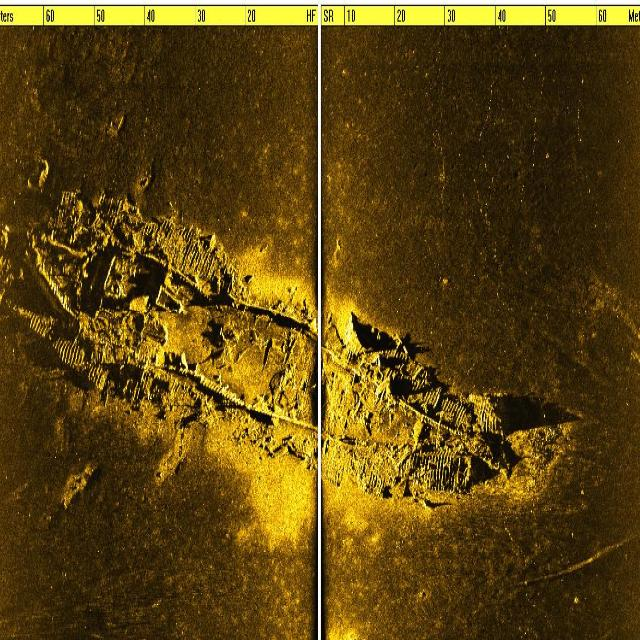ship: (26, 194, 514, 505)
